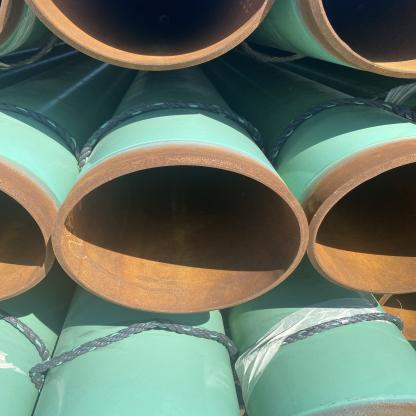clean: (146, 144, 190, 192)
